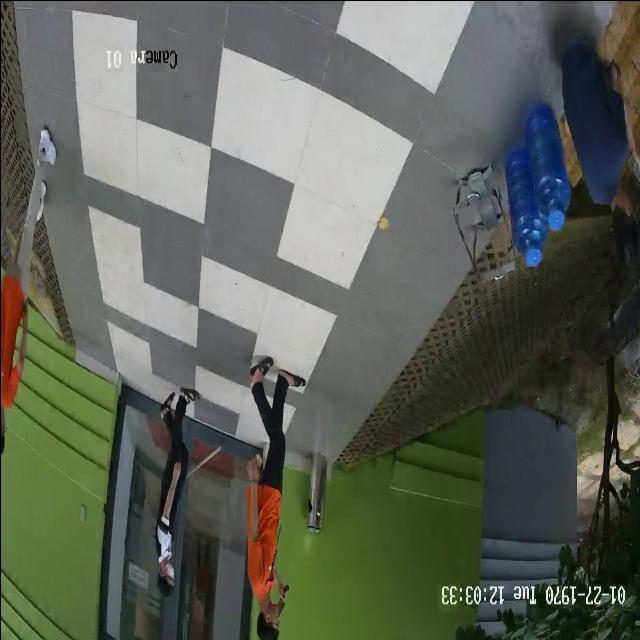Knife: (275, 579, 290, 617)
